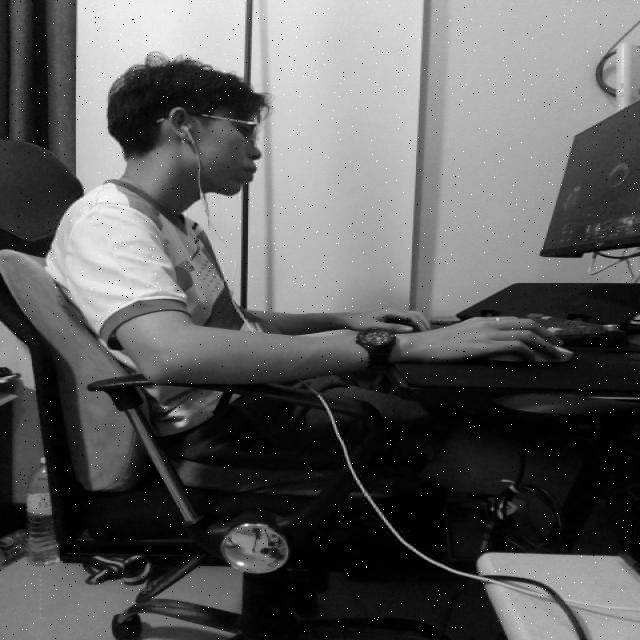Bad: (58, 38, 397, 518)
